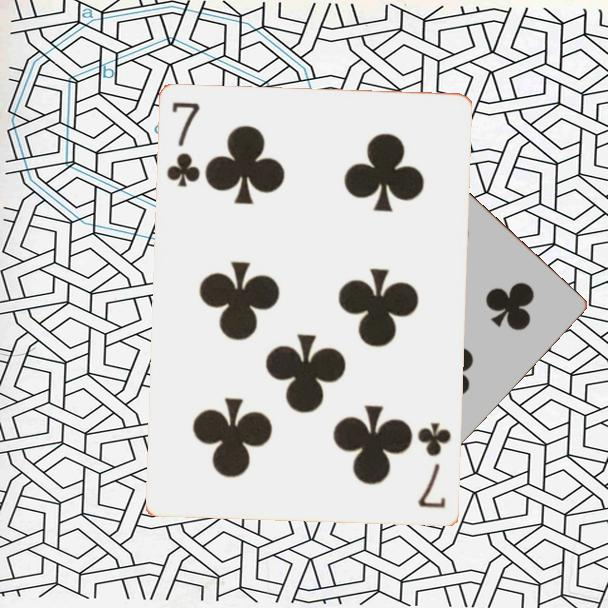c07: (163, 99, 204, 190), (414, 419, 454, 512)
